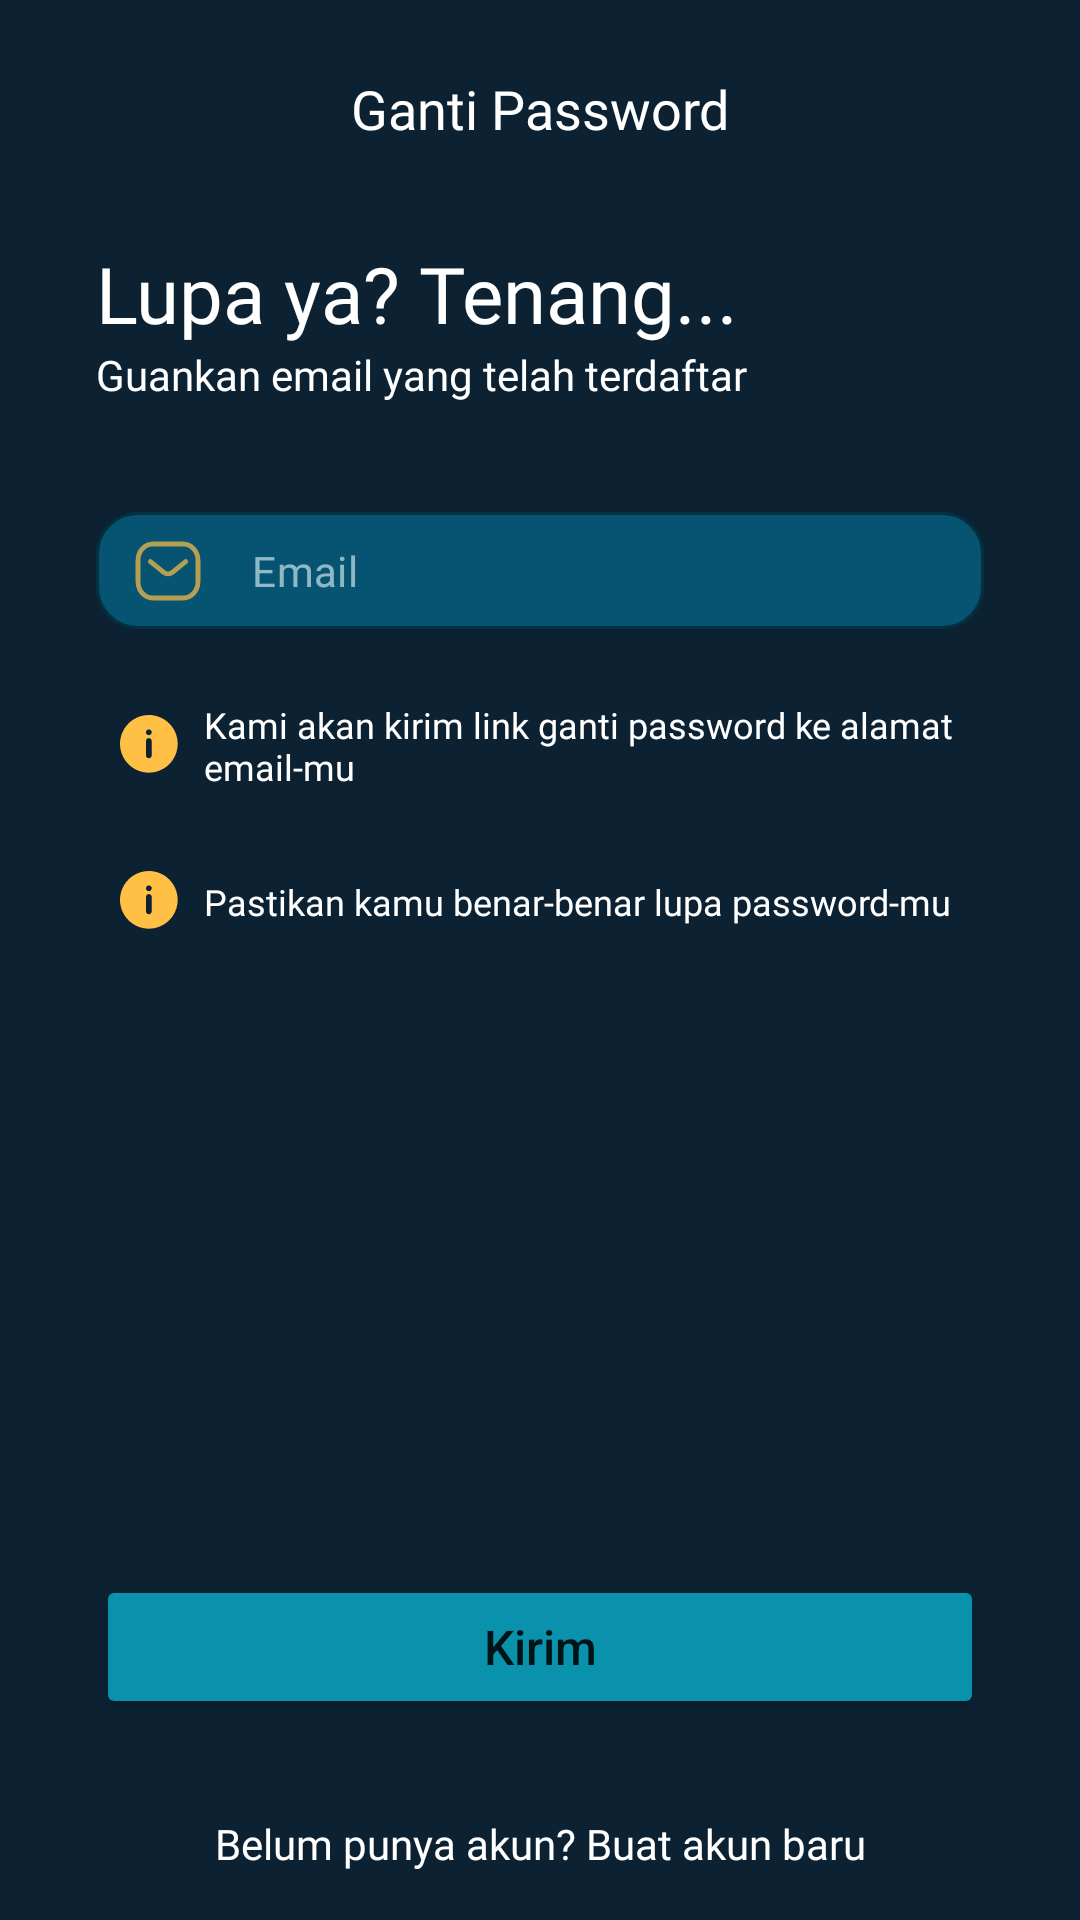

Locate icon controls on the screen. Image size 1080px x 1920px, boxes as (x1, y1, x2, y2).
warning: (120, 715, 178, 773), (120, 871, 178, 929)
